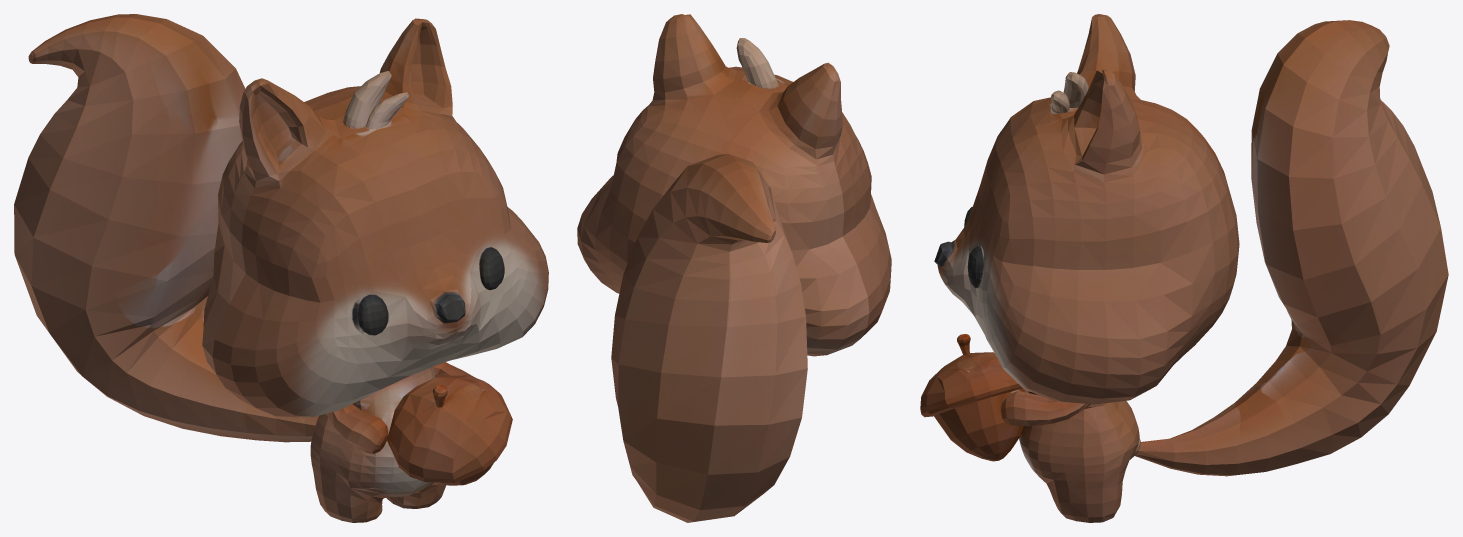
The picture shows the model from 3 angles, left to right: view 1: azimuth 30°, elevation 25°; view 2: azimuth 150°, elevation 25°; view 3: azimuth 270°, elevation 25°; orthographic projection. The views are drawn at different scales.
Parts seen in each view (by area): view 1: mvadapter_node_0006_ec1c69eb01ea42e5b20c0c2ccf361db5; view 2: mvadapter_node_0006_ec1c69eb01ea42e5b20c0c2ccf361db5; view 3: mvadapter_node_0006_ec1c69eb01ea42e5b20c0c2ccf361db5.
Boxes of the visible parts, left/top/right/bottom form: mvadapter_node_0006_ec1c69eb01ea42e5b20c0c2ccf361db5: left=14, top=14, right=548, bottom=522; mvadapter_node_0006_ec1c69eb01ea42e5b20c0c2ccf361db5: left=577, top=14, right=891, bottom=522; mvadapter_node_0006_ec1c69eb01ea42e5b20c0c2ccf361db5: left=920, top=14, right=1448, bottom=522.
Size of the model in its own units: 0.7764 by 0.9378 by 1.
Materials: 1 (1 with a texture image).
